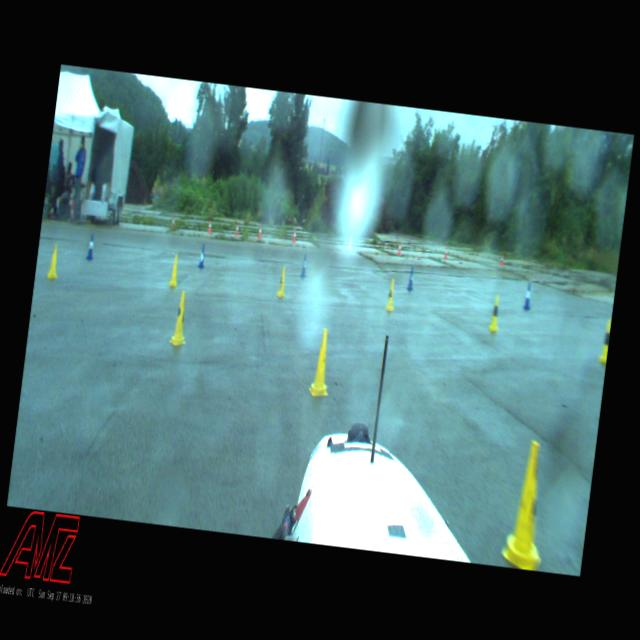blue_cone: (522, 283, 532, 309), (86, 233, 95, 260), (198, 244, 206, 268), (407, 267, 415, 290), (300, 256, 307, 276)
orange_cone: (234, 222, 240, 235), (499, 253, 504, 264), (443, 247, 448, 258), (258, 225, 262, 238), (292, 229, 296, 242), (398, 242, 402, 254), (208, 220, 212, 232), (348, 236, 352, 248), (171, 216, 175, 226)
yellow_cone: (499, 438, 555, 570), (308, 327, 336, 398), (168, 290, 191, 346), (597, 319, 611, 363), (487, 294, 502, 331), (46, 244, 60, 278), (384, 278, 396, 311), (168, 254, 180, 286), (276, 266, 288, 296)
